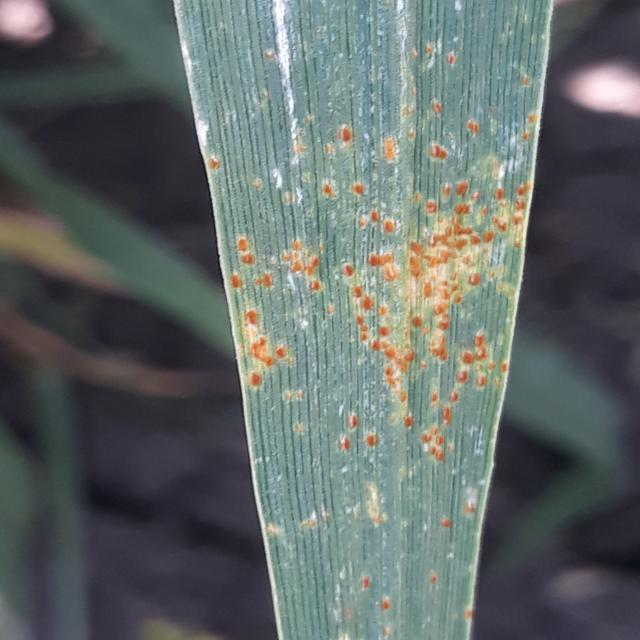orang_rust: (162, 0, 570, 640)
